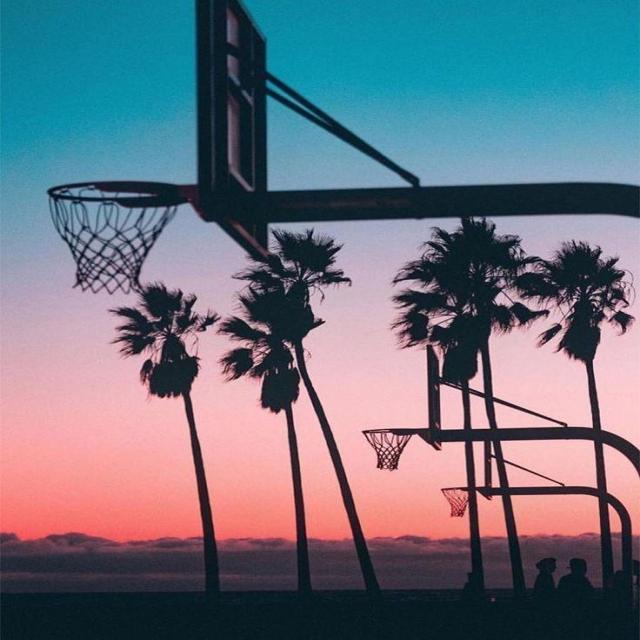hoop: (18, 165, 206, 308)
